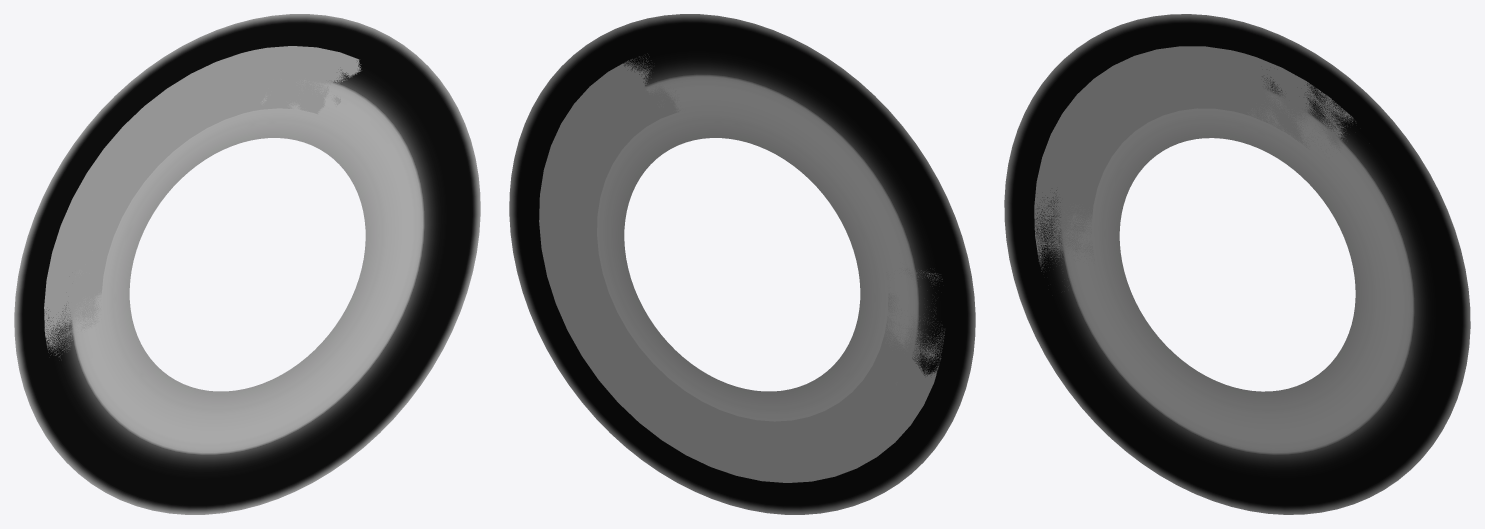
Rendered from pref_BattleSkillCommonSkillBtn2.fbx.
The picture shows the model from 3 angles, left to right: view 1: azimuth 30°, elevation 25°; view 2: azimuth 150°, elevation 25°; view 3: azimuth 330°, elevation 25°; orthographic projection.
Parts seen in each view (by area): view 1: ring1, CountdownTrans; view 2: ring1, CountdownTrans; view 3: ring1, CountdownTrans.
Part boxes in pixels (bbox=[...]): ring1: bbox=[14, 14, 480, 514]; CountdownTrans: bbox=[44, 46, 361, 356]; ring1: bbox=[509, 14, 975, 514]; CountdownTrans: bbox=[539, 53, 944, 482]; ring1: bbox=[1004, 14, 1470, 514]; CountdownTrans: bbox=[1034, 46, 1356, 271].
Size of the model in its own units: 142 by 142 by 6.2e-05.
